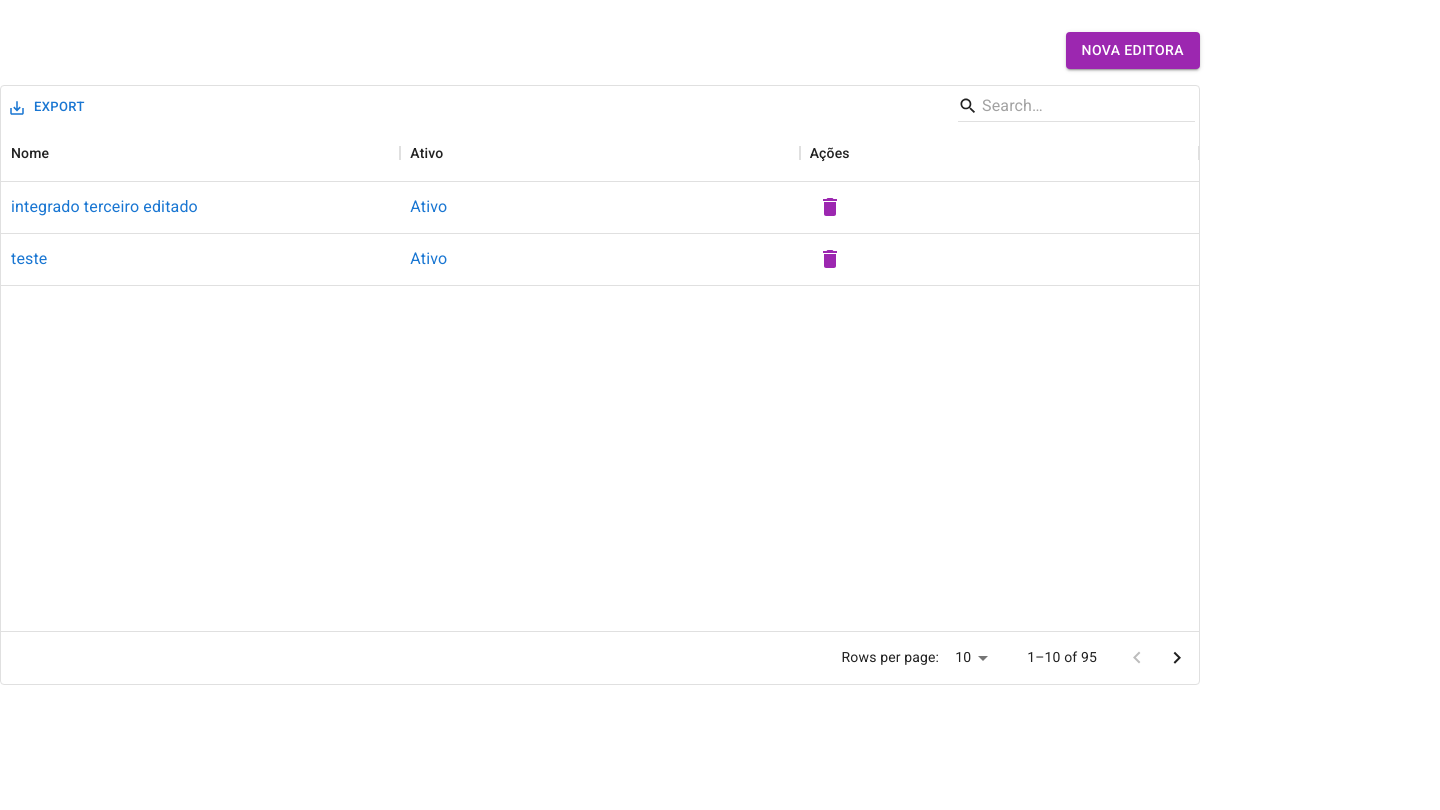
Test: ListPublisher › should handle delete publisher error
Expected: the text "integrado terceiro editado" is shown, [11,195,198,219]
Click the button with test id "delete-button" in the row of "integrado terceiro editado": (830, 207) [810,187,850,227]
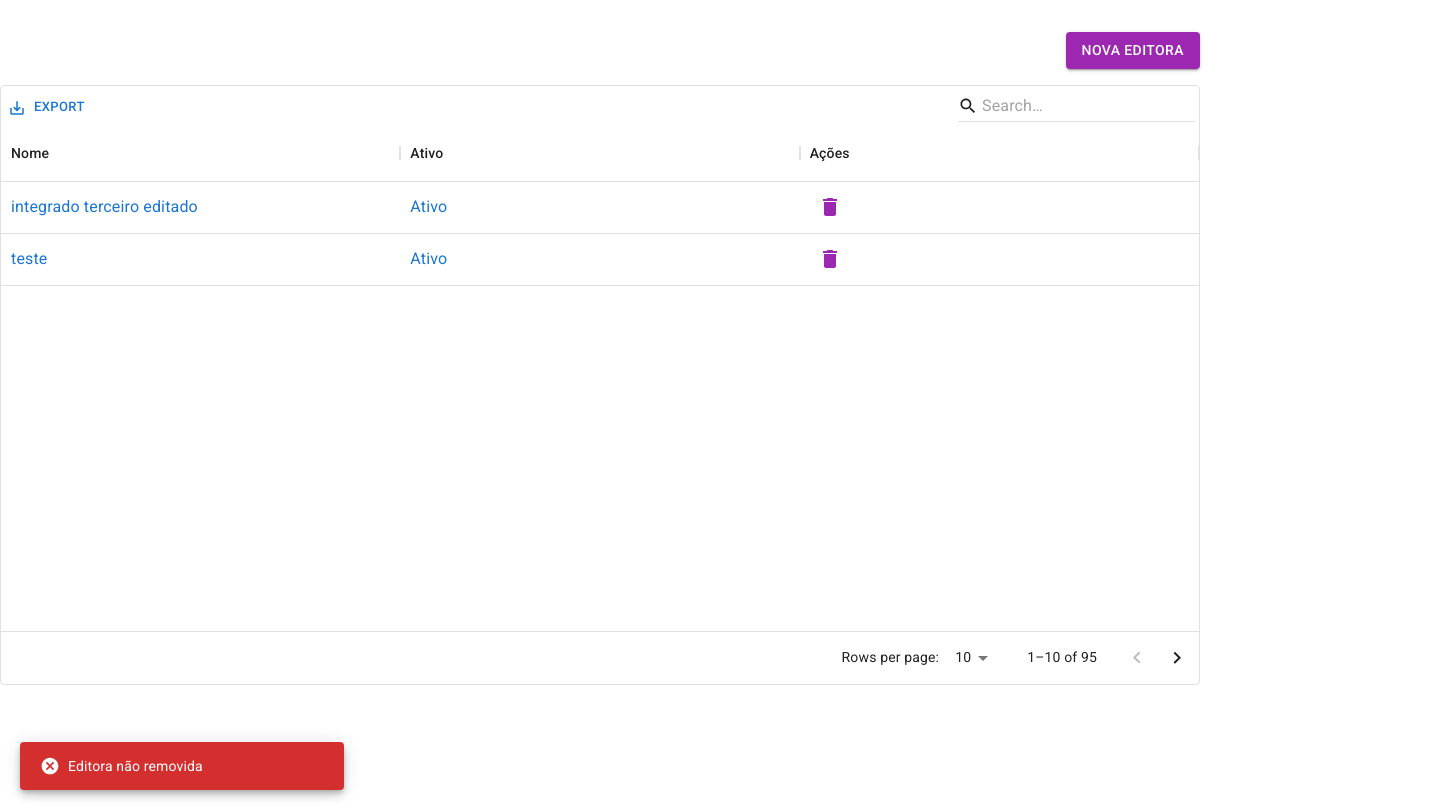
Expected: the text "Editora não removida" is shown, [40,756,203,776]
